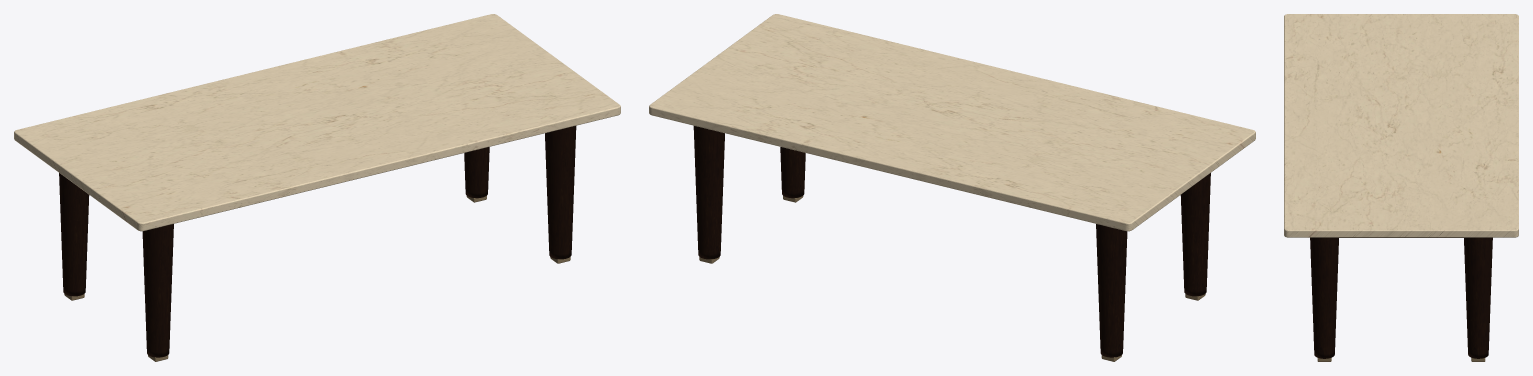
The model's file is premium-cream-marble-dining.glb.
3 renders of one model, left to right at view 1: azimuth 30°, elevation 25°; view 2: azimuth 150°, elevation 25°; view 3: azimuth 270°, elevation 25°, orthographic. The views are drawn at different scales.
Parts seen in each view (by area): view 1: rectangular_cream_marble_slab, walnut_under_top_edge; view 2: rectangular_cream_marble_slab, walnut_under_top_edge; view 3: rectangular_cream_marble_slab, walnut_under_top_edge.
Part boxes in pixels (box(x1,y1,x2,y2)): rectangular_cream_marble_slab: box(14, 14, 620, 231); walnut_under_top_edge: box(59, 126, 576, 357); rectangular_cream_marble_slab: box(649, 14, 1255, 231); walnut_under_top_edge: box(693, 126, 1210, 357); rectangular_cream_marble_slab: box(1284, 14, 1518, 237); walnut_under_top_edge: box(1310, 237, 1492, 358).
Size of the model in its own units: 2.4 by 0.7601 by 1.1.
Materials: 3 (2 with a texture image).
